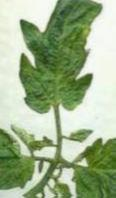Tomato leaf mosaic virus: (15, 3, 105, 119), (0, 114, 37, 197), (74, 138, 116, 198)
